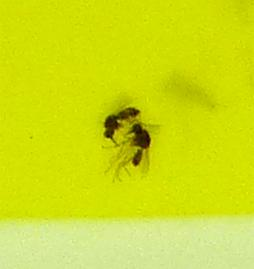Brachycera: (100, 100, 145, 147), (121, 117, 154, 169)
